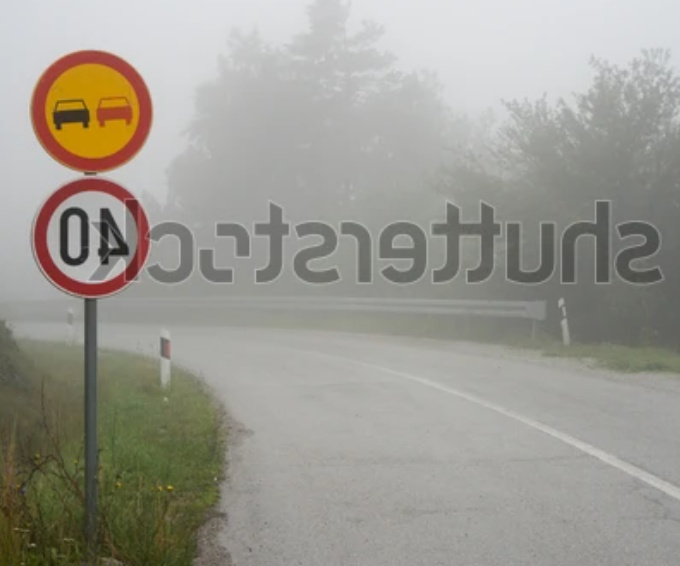No overtake: (24, 42, 156, 177)
Speed limit: (26, 173, 150, 305)
